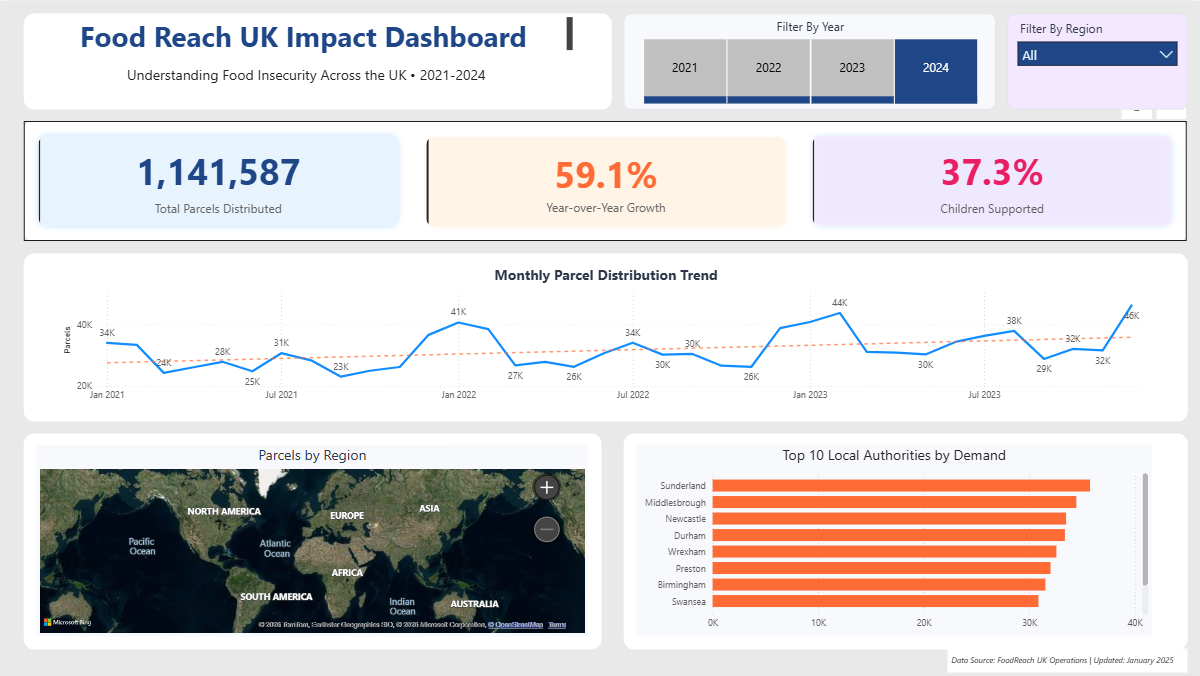

What the dashboard file says about the page in this screenshot:
{"tool":"powerbi","page":{"name":"Executive Overview","canvas":[1600,900],"ordinal":0},"visuals":[{"type":"shape","box":[32,576,770,288],"z":0},{"type":"shape","box":[832,576,752,288],"z":500},{"type":"shape","box":[32,320,1552,240],"z":1000},{"type":"lineChart","title":"Monthly Parcel Distribution Trend ","fields":{"Category":["Dim_Date.Date"],"Y":["_Measures.Total_Parcels"]},"box":[80,352,1456,192],"z":2000},{"type":"filledMap","title":"Parcels by Region","fields":{"Category":["Dim_Location.Region"]},"box":[48,592,736,256],"z":3000},{"type":"clusteredBarChart","title":"Top 10 Local Authorities by Demand","fields":{"Category":["Dim_Location.Local_Authority"],"Y":["_Measures.Total_Parcels"]},"box":[848,592,688,256],"z":4000},{"type":"cardVisual","fields":{"Data":["_Measures.Total_Parcels","_Measures.YoY Growth Pct","_Measures.Percentage of Children"]},"box":[32,160,1552,144],"z":5000},{"type":"slicer","fields":{"Values":["Dim_Location.Region"]},"box":[1344,16,240,128],"z":6000},{"type":"slicer","title":"Filter By Year","fields":{"Values":["Dim_Date.Year"]},"box":[832,16,496,128],"z":7000},{"type":"textbox","box":[1264,864,320,32],"z":8000},{"type":"shape","box":[32,16,784,128],"z":9000},{"type":"textbox","box":[48,16,720,64],"z":10000},{"type":"textbox","box":[48,80,720,48],"z":11000}]}

Visuals, with their boxes in screenshot pixels (x1, y1, x2, y2), scaled from the page's 1600x900 canvas onto the 1200x676 screenshot:
shape: <region>24, 433, 602, 649</region>
shape: <region>624, 433, 1188, 649</region>
shape: <region>24, 240, 1188, 421</region>
"Monthly Parcel Distribution Trend " lineChart: <region>60, 264, 1152, 409</region>
"Parcels by Region" filledMap: <region>36, 445, 588, 637</region>
"Top 10 Local Authorities by Demand" clusteredBarChart: <region>636, 445, 1152, 637</region>
cardVisual - _Measures.Total_Parcels x _Measures.YoY Growth Pct: <region>24, 120, 1188, 228</region>
slicer - Dim_Location.Region: <region>1008, 12, 1188, 108</region>
"Filter By Year" slicer: <region>624, 12, 996, 108</region>
textbox: <region>948, 649, 1188, 673</region>
shape: <region>24, 12, 612, 108</region>
textbox: <region>36, 12, 576, 60</region>
textbox: <region>36, 60, 576, 96</region>
